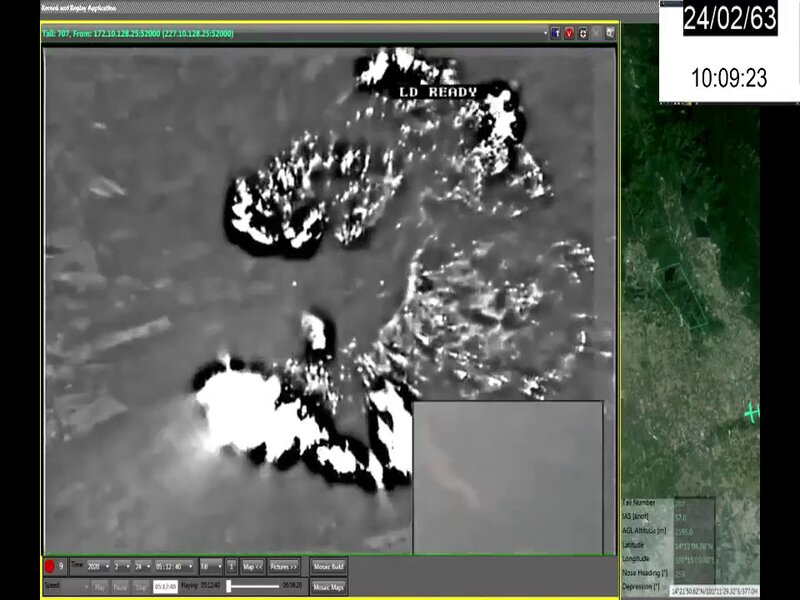Fire: (190, 49, 411, 494)
